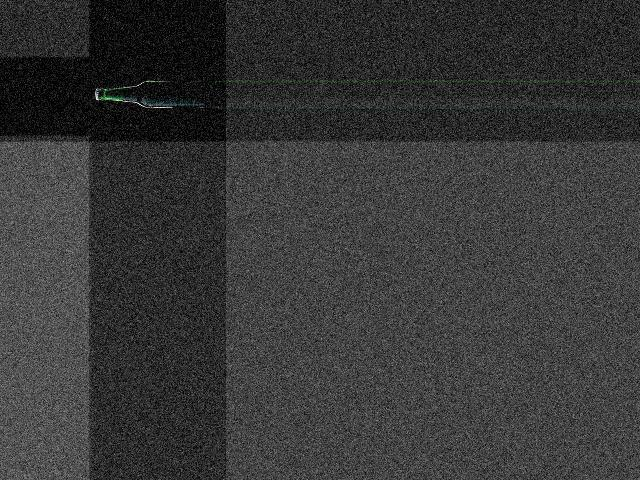beer: (94, 81, 207, 109)
